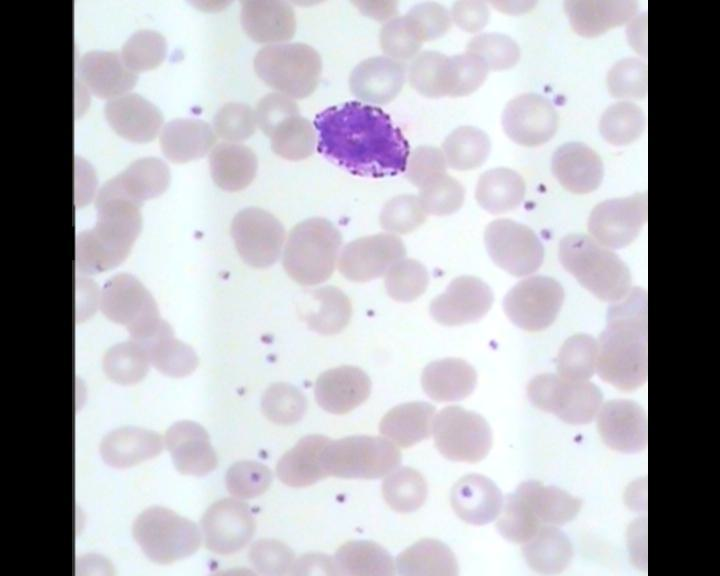baso: (304, 94, 411, 188)
